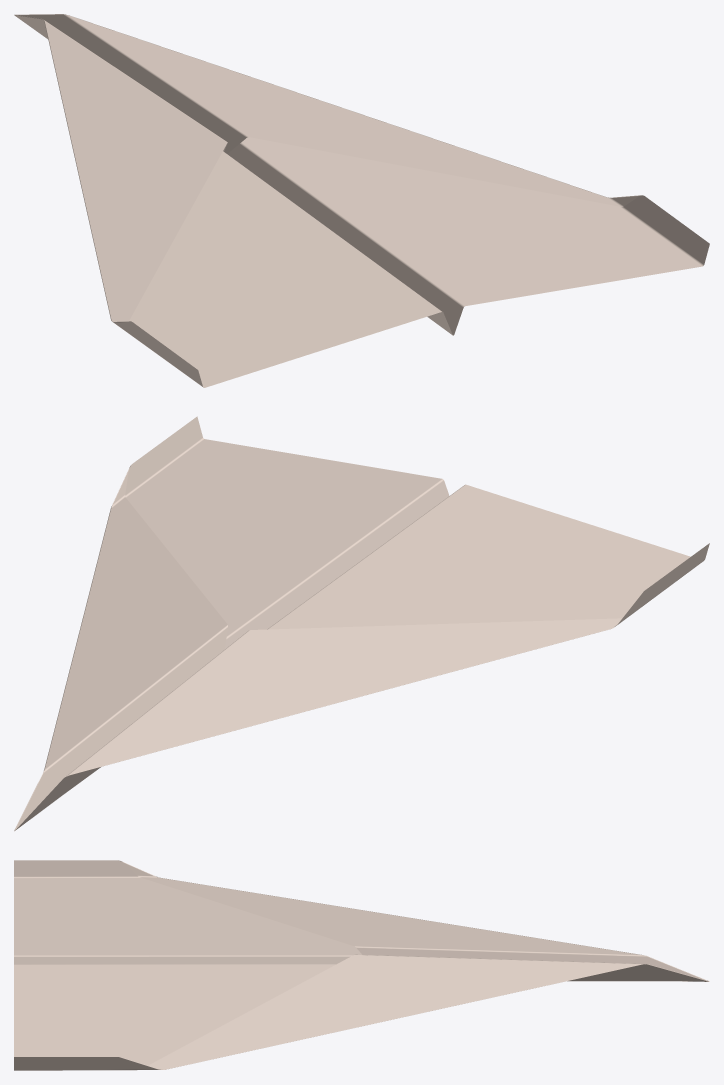
Rendered from paper plane.fbx.
3 views of the same model, one above another, from view 1: azimuth 30°, elevation 25°; view 2: azimuth 150°, elevation 25°; view 3: azimuth 270°, elevation 25° (orthographic). The views are drawn at different scales.
Parts seen in each view (by area): view 1: paper plane; view 2: paper plane; view 3: paper plane.
Part boxes in pixels (x1,y1,x2,y2): paper plane: [14, 14, 709, 387]; paper plane: [14, 416, 709, 831]; paper plane: [14, 860, 709, 1070].
Size of the model in its own units: 39.76 by 2.94 by 59.14.
